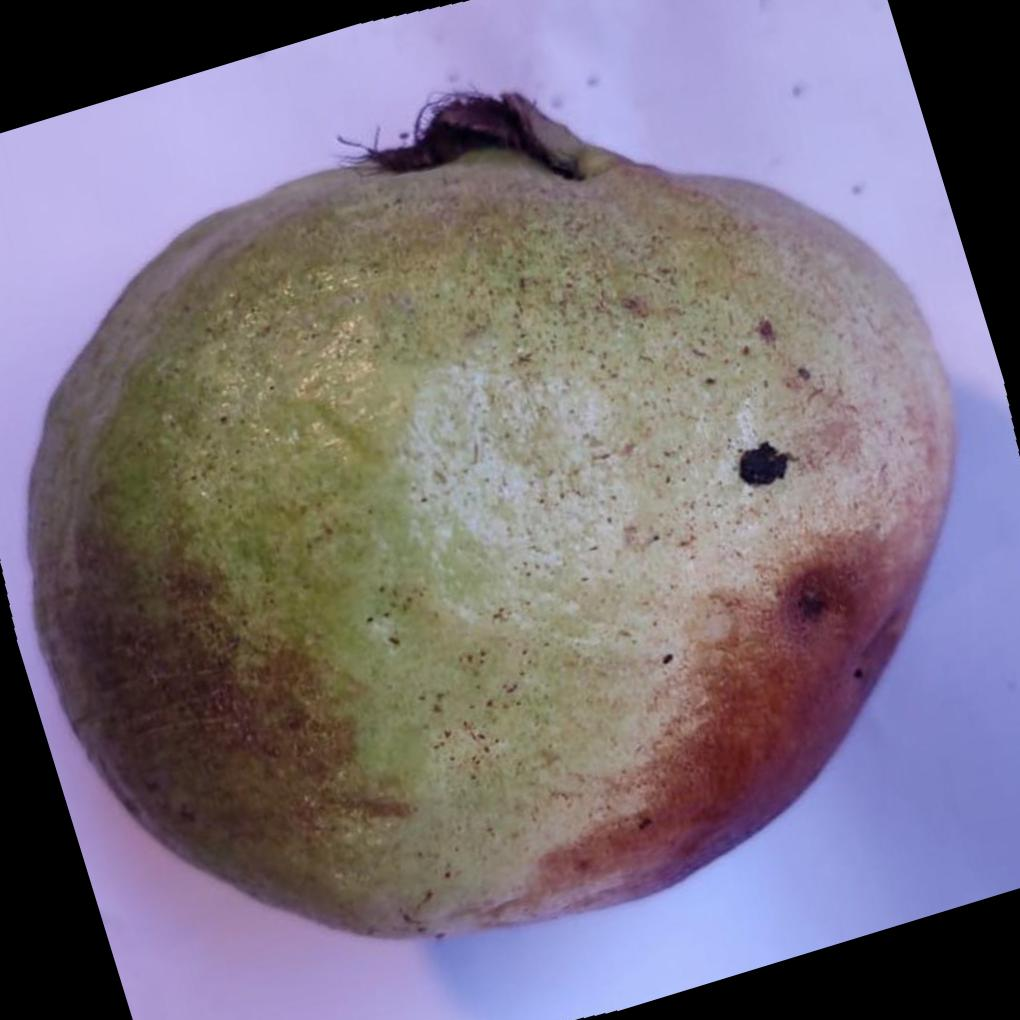FreshOrange: (26, 92, 957, 945)
